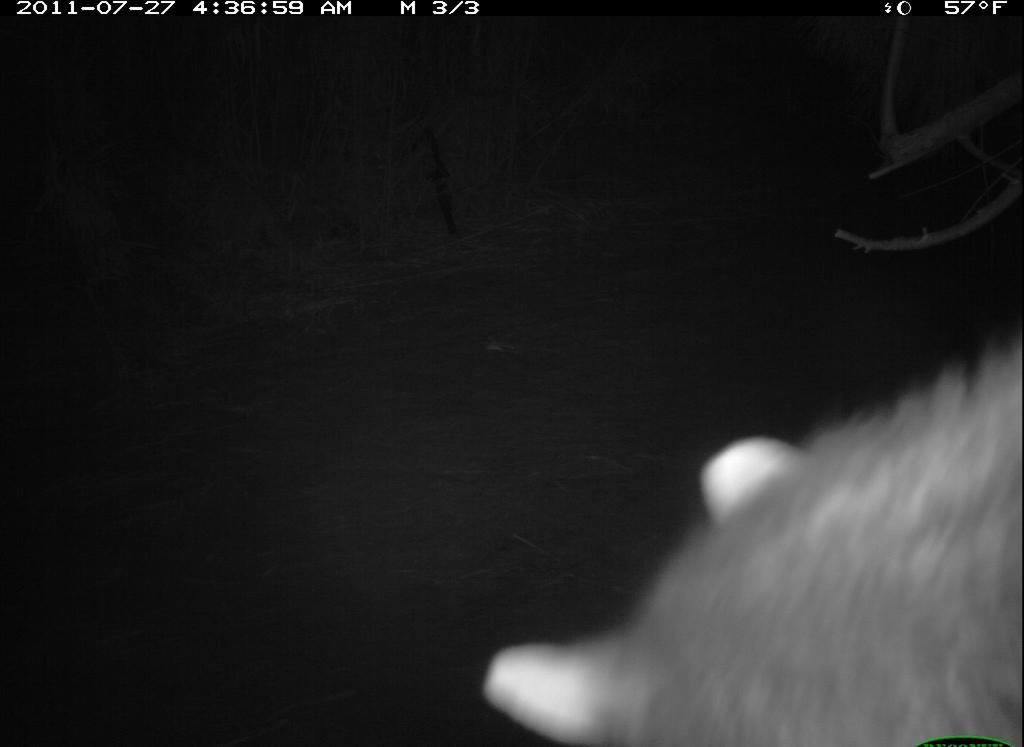raccoon: (477, 317, 1022, 747)
